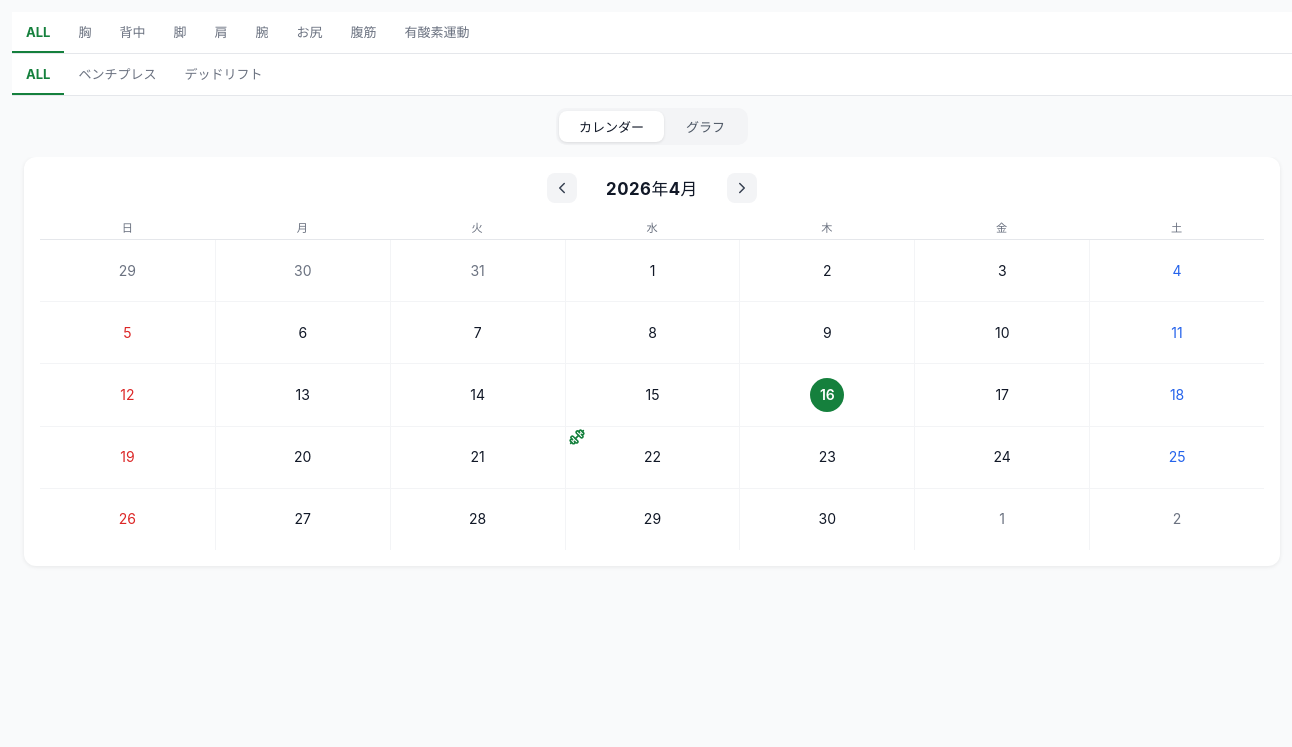
Test case: HistoryPage - ビュー切り替え › 「カレンダー」ボタンでカレンダービューに戻る
Step 1. Click the button "グラフ" → (706, 126), box [666,111,745,142]
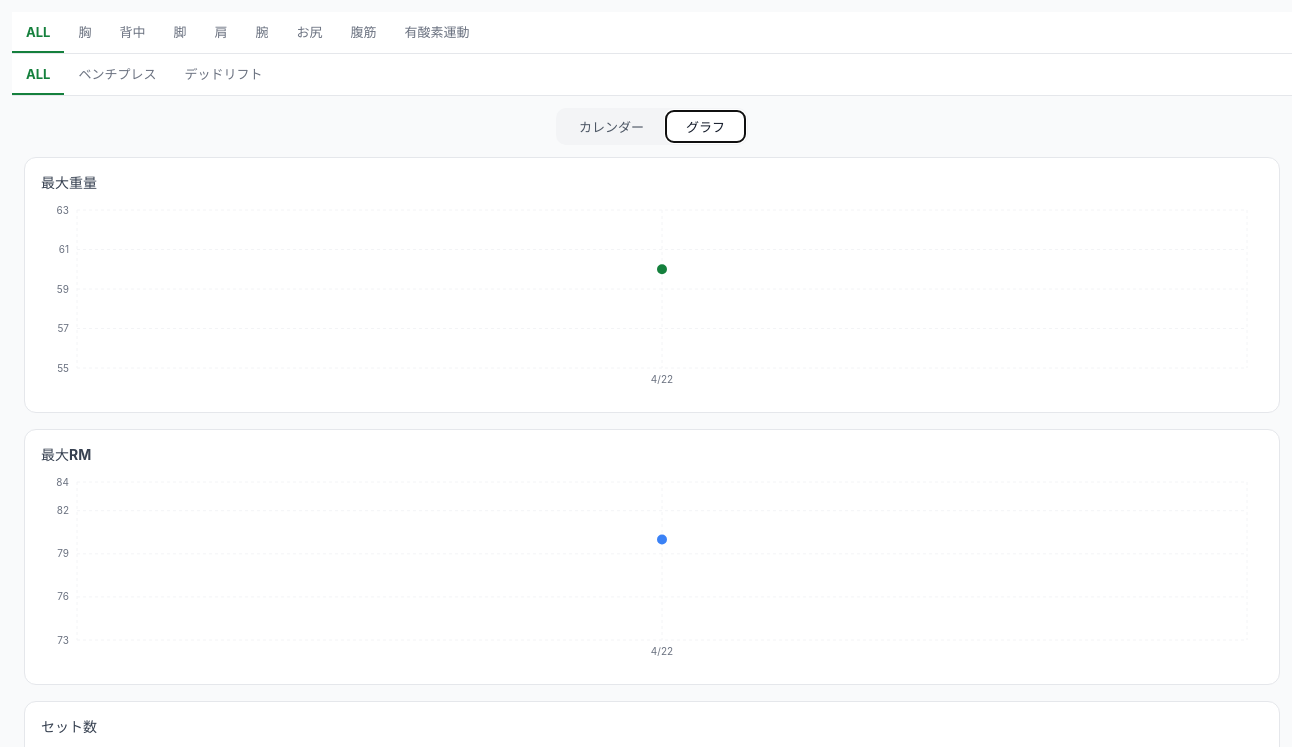
Step 2. Click the button "カレンダー" → (612, 126), box [559,111,664,142]
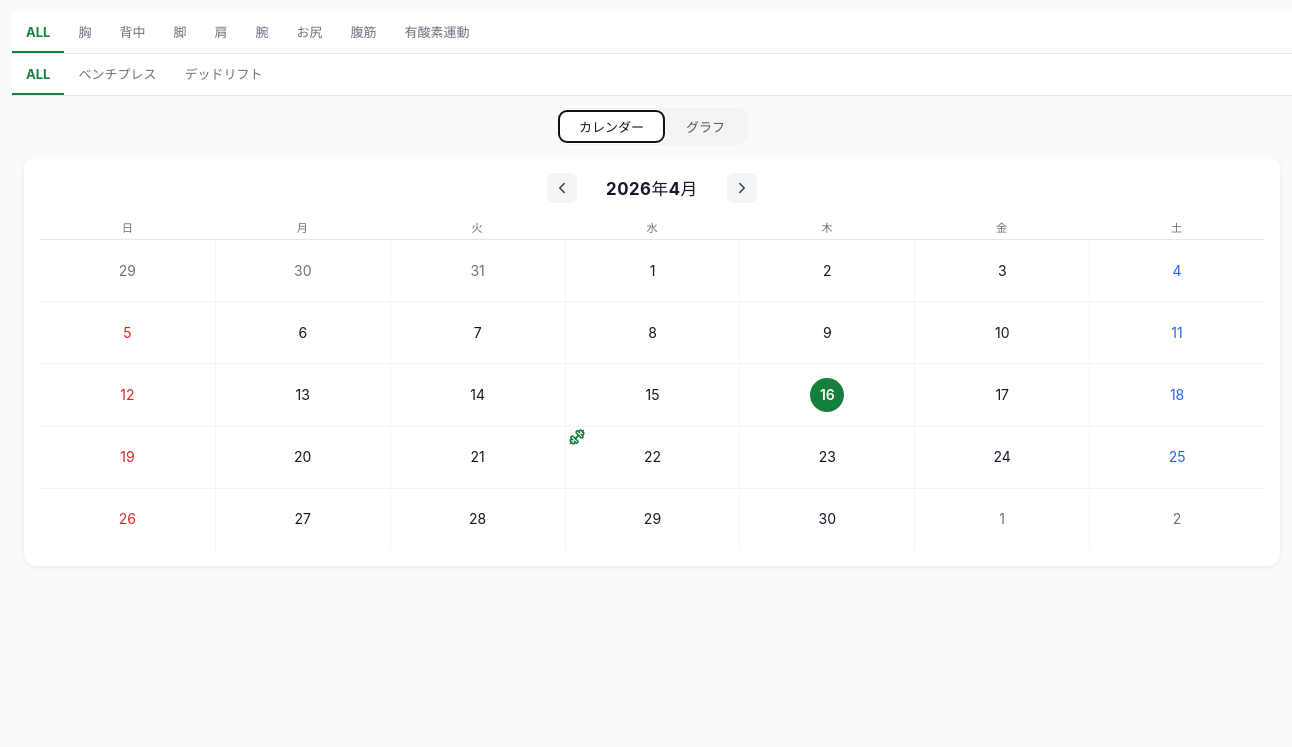
Now the text "日" is shown, box [122,221,133,235]
